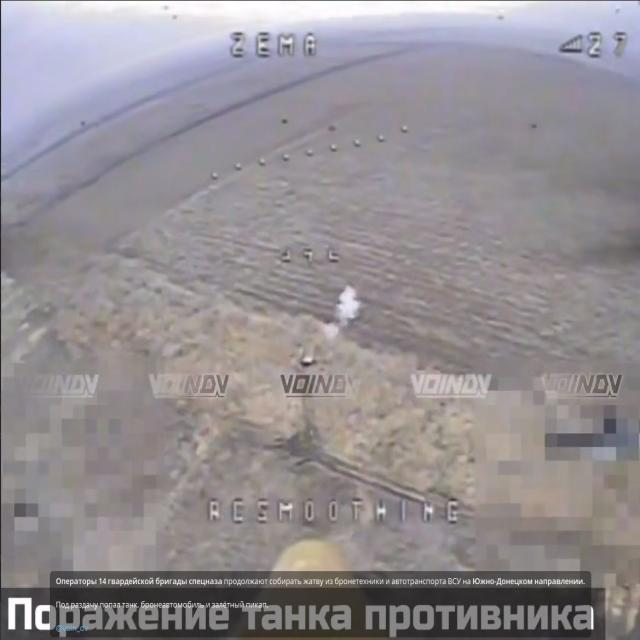vehicle: (287, 333, 332, 377)
